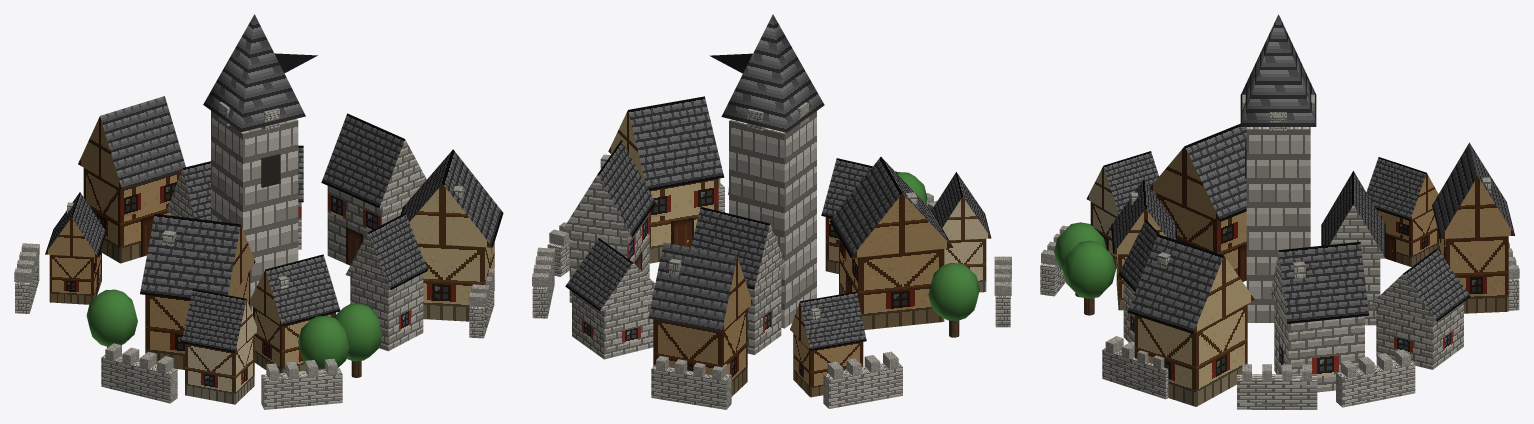
File: ciudad.glb
3 renders of one model, left to right at view 1: azimuth 30°, elevation 25°; view 2: azimuth 150°, elevation 25°; view 3: azimuth 270°, elevation 25°, orthographic.
Visible parts, largest first — view 1: ciudad; view 2: ciudad; view 3: ciudad.
Part boxes in pixels (x1,y1,x2,y2): ciudad: [14, 14, 503, 409]; ciudad: [532, 14, 1011, 409]; ciudad: [1040, 14, 1519, 409].
Size of the model in its own units: 0.9349 by 0.6557 by 0.9632.
Materials: 26 (22 with a texture image).
